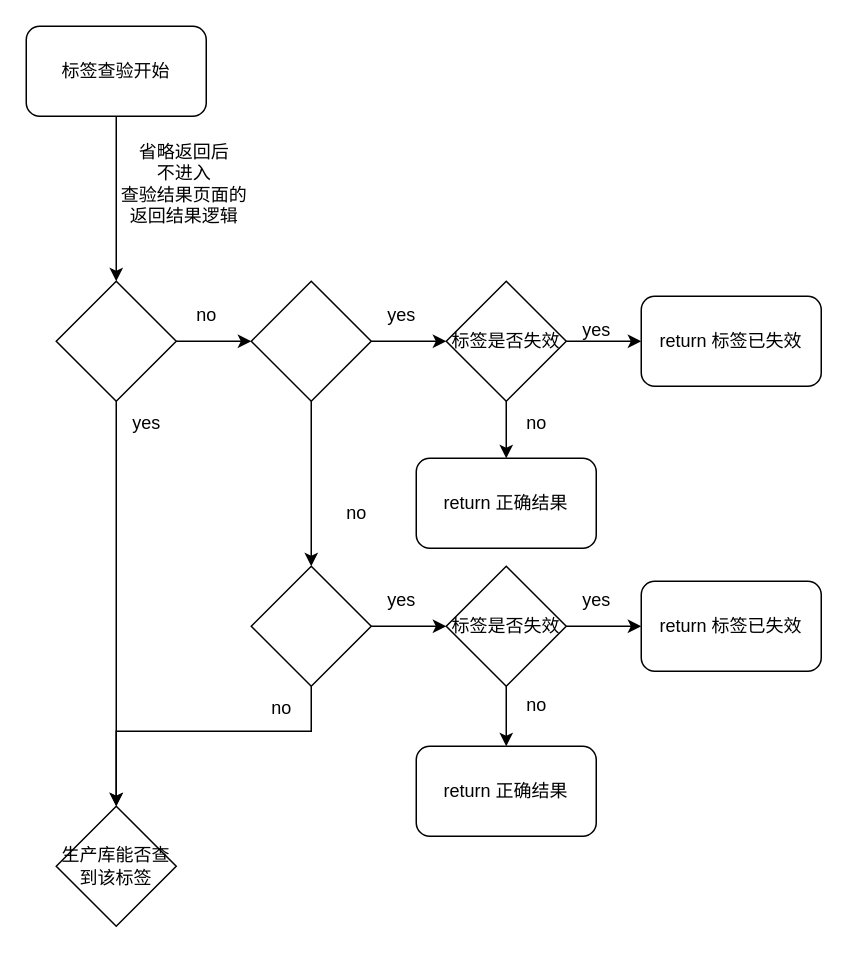
Image size: 848x953. Some labels were removed from this diagram. The centre of each missing label's shape, as x and y in pixels:
"是否首次查验" goes at (x=115, y=340).
"缓存中是否存在该标签查询数据" goes at (x=310, y=340).
"缓存表中是否存在改标签首查记录" goes at (x=310, y=625).
